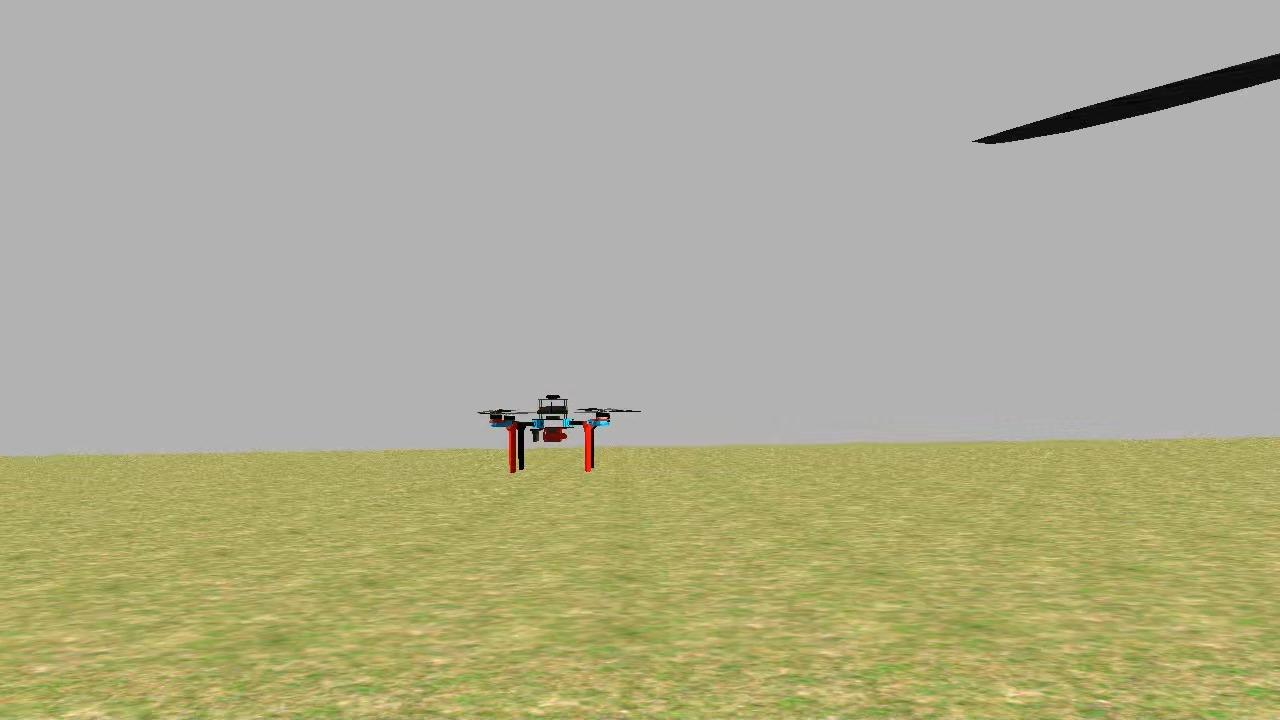UAV: (477, 395, 618, 471)
